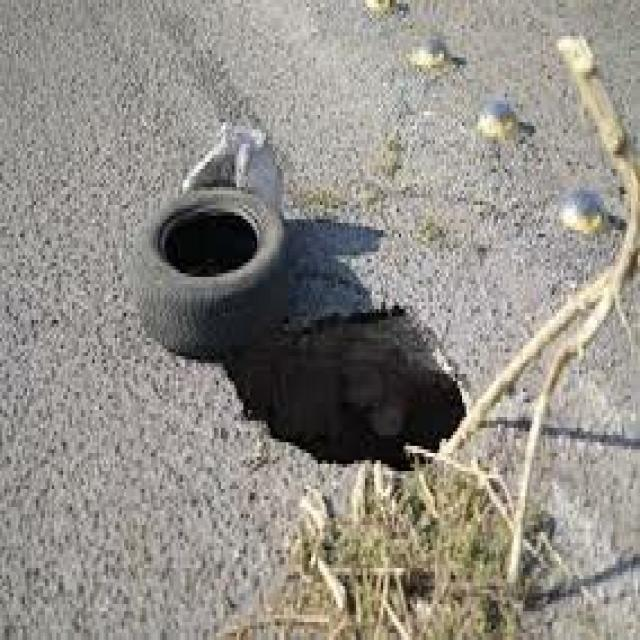Pothole: (234, 310, 465, 468)
